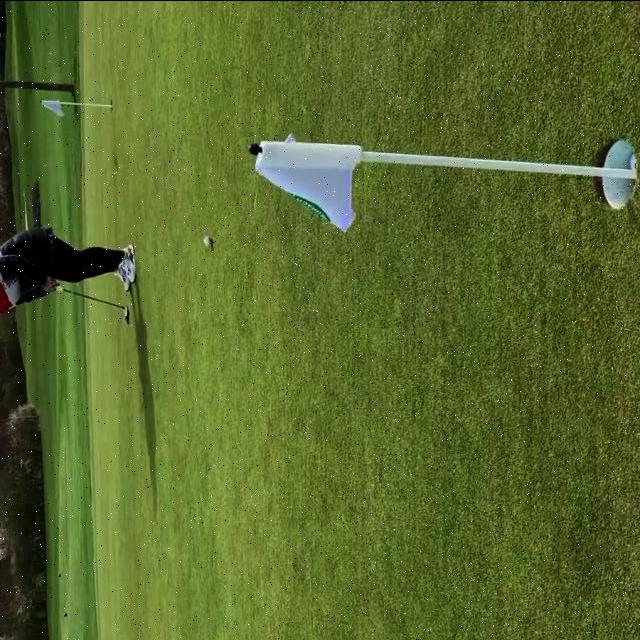ClubHandle: (54, 285, 129, 317)
ClubHead: (124, 305, 129, 317)
GolfBall: (631, 153, 636, 168), (204, 235, 211, 244)
